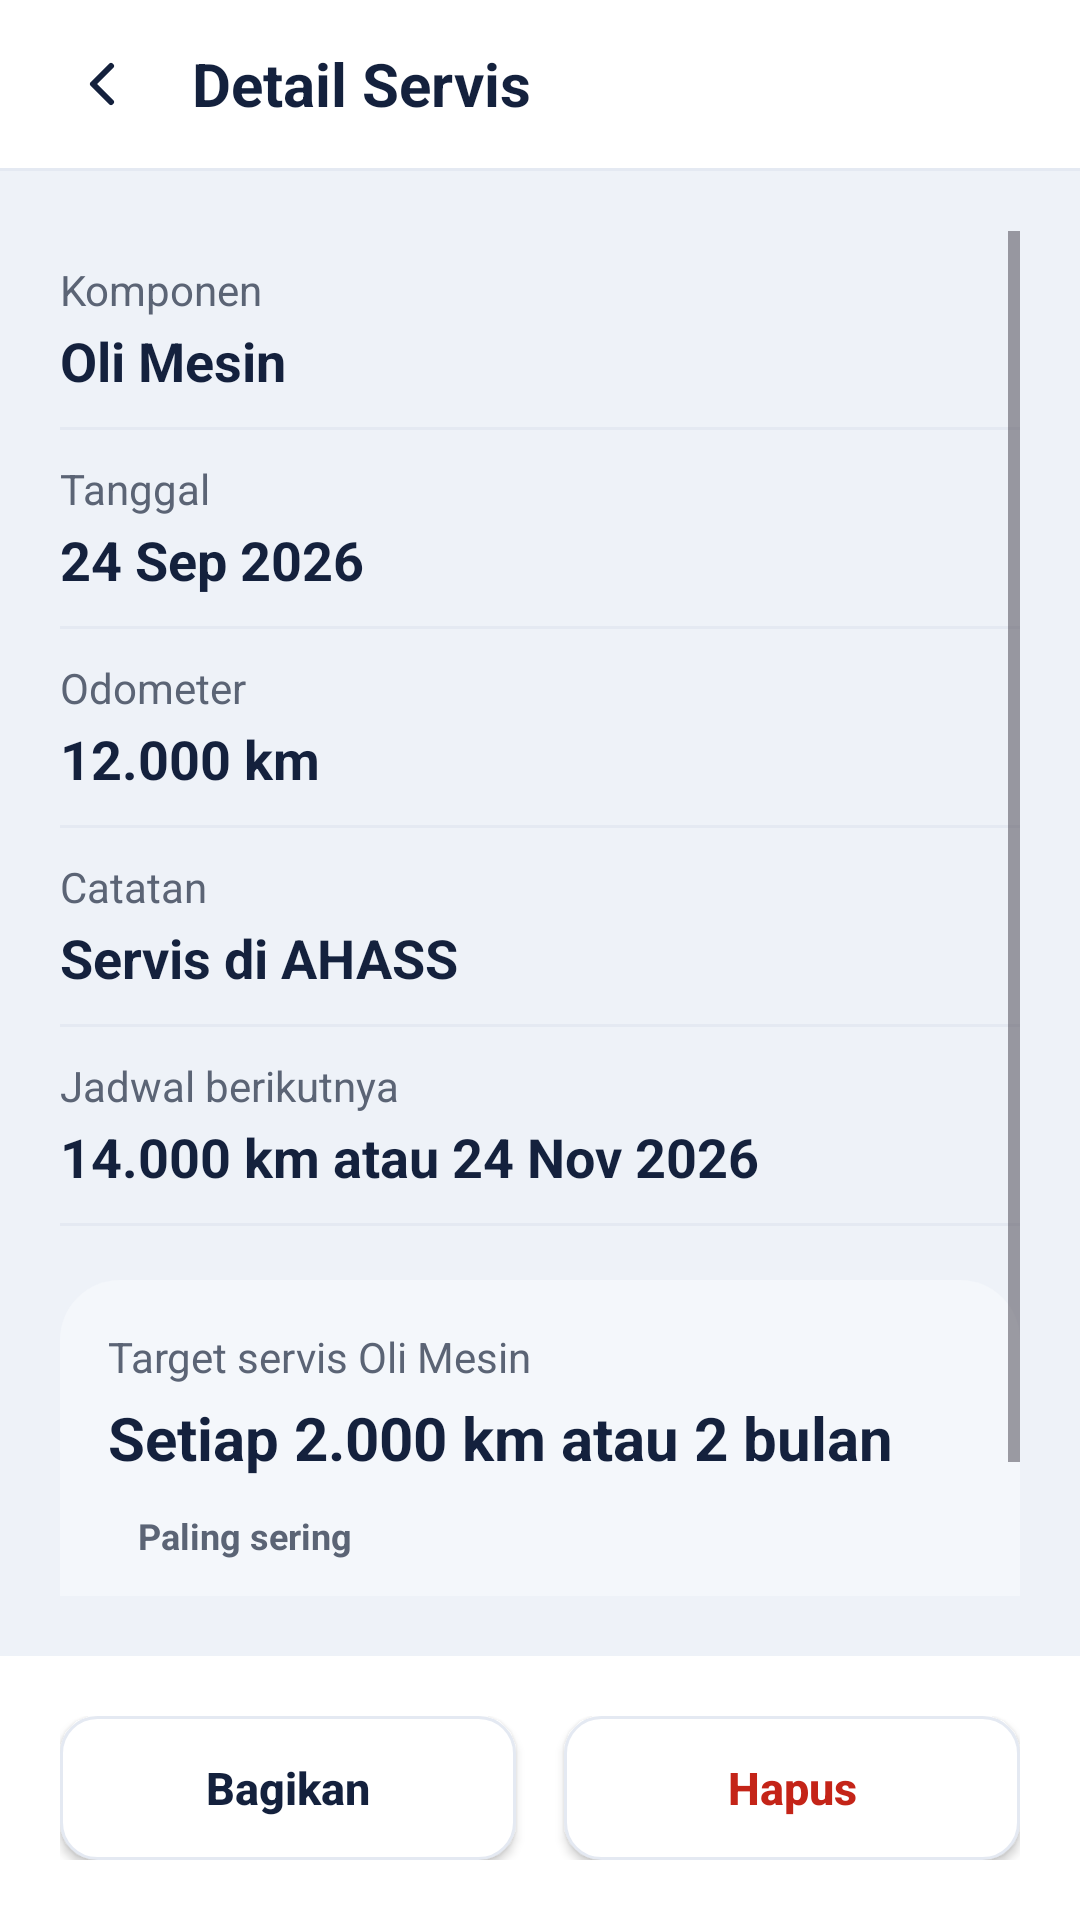

Screen size 1080px×1920px. Icon name, then its box in pixels as (x1, y1, x2, y2):
Kembali: (90, 63, 114, 105)
